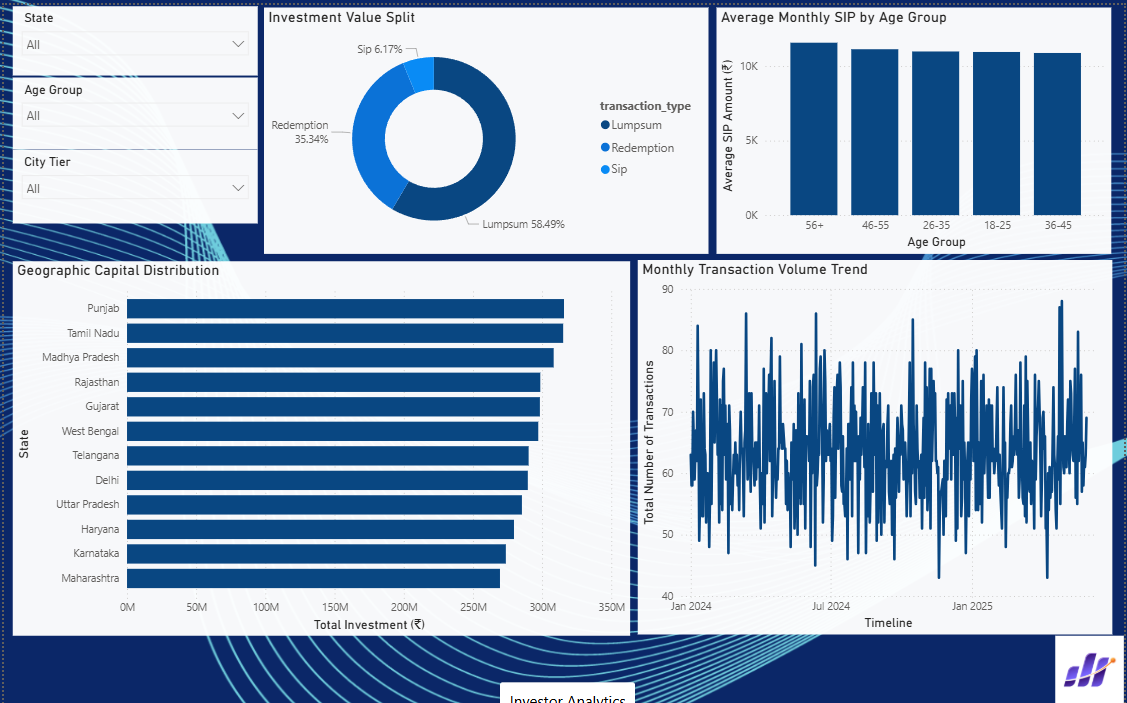

Layout of this report page (visuals, bound fields, positions):
{"tool":"powerbi","page":{"name":"Investor Analytics","canvas":[1280,800],"ordinal":2},"visuals":[{"type":"slicer","fields":{"Values":["clean_investor_transactions.state"]},"box":[9.6,1.4,279.9,79.6],"z":0},{"type":"slicer","fields":{"Values":["clean_investor_transactions.age_group"]},"box":[9.6,82.3,279.9,82.3],"z":1000},{"type":"slicer","fields":{"Values":["clean_investor_transactions.city_tier"]},"box":[9.6,166,279.9,83.7],"z":2000},{"type":"clusteredBarChart","title":"Geographic Capital Distribution","fields":{"Category":["clean_investor_transactions.state"],"Y":["Sum(clean_investor_transactions.amount_inr)"]},"box":[9.6,292.3,705.3,428.1],"z":3000},{"type":"donutChart","title":"Investment Value Split","fields":{"Category":["clean_investor_transactions.transaction_type"],"Y":["Sum(clean_investor_transactions.amount_inr)"]},"box":[297.8,2.7,507.7,281.3],"z":4000},{"type":"clusteredColumnChart","title":"Average Monthly SIP by Age Group","fields":{"Category":["clean_investor_transactions.age_group"],"Y":["Avg(clean_investor_transactions.amount_inr)"]},"box":[813.7,2.7,451.5,281.3],"z":5000},{"type":"lineChart","title":"Monthly Transaction Volume Trend","fields":{"Category":["clean_investor_transactions.transaction_date"],"Y":["CountNonNull(clean_investor_transactions.amfi_code)"]},"box":[724.5,291.9,542,428.1],"z":6000},{"type":"image","box":[1202.1,720.4,78.2,79.6],"z":6001}]}

Visuals, with their boxes in screenshot pixels (x1, y1, x2, y2), scaled from the page's 1280x800 canvas onto the 1127x703 screenshot:
slicer - clean_investor_transactions.state: 8 1 255 71
slicer - clean_investor_transactions.age_group: 8 72 255 145
slicer - clean_investor_transactions.city_tier: 8 146 255 219
"Geographic Capital Distribution" clusteredBarChart: 8 257 629 633
"Investment Value Split" donutChart: 262 2 709 250
"Average Monthly SIP by Age Group" clusteredColumnChart: 716 2 1114 250
"Monthly Transaction Volume Trend" lineChart: 638 257 1115 633
image: 1058 633 1126 702
